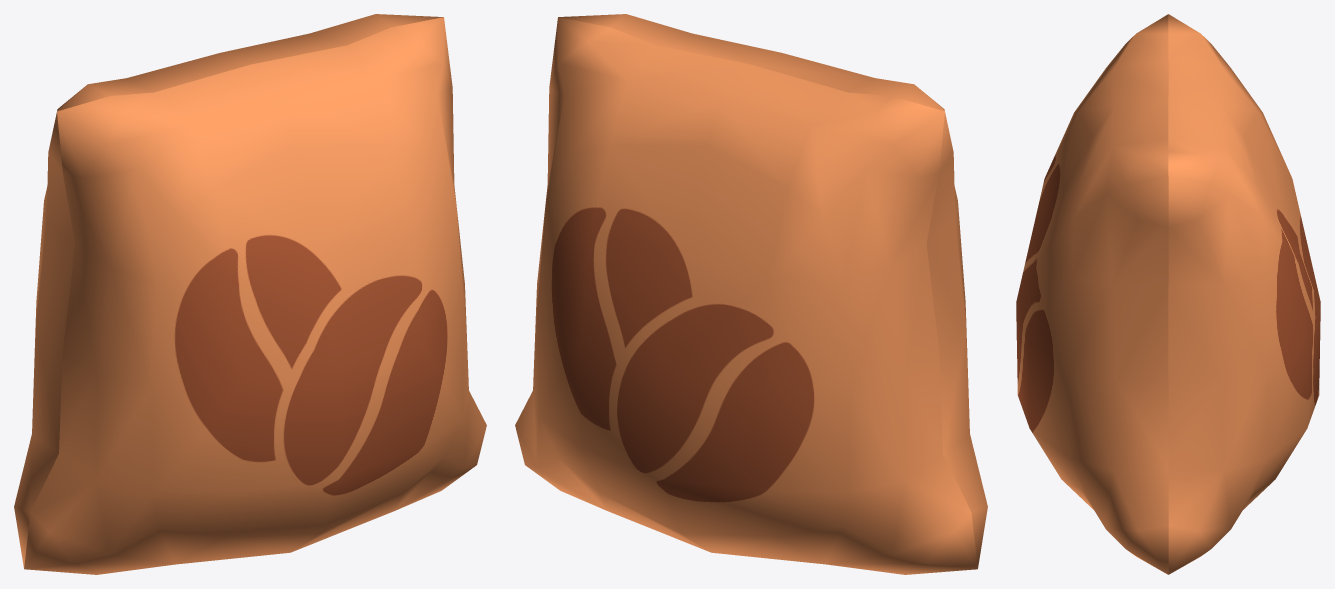
Rendered from Stock_CoffeeBean_geo.fbx.
The picture shows the model from 3 angles, left to right: view 1: azimuth 30°, elevation 25°; view 2: azimuth 150°, elevation 25°; view 3: azimuth 270°, elevation 25°; orthographic projection. The views are drawn at different scales.
Visible parts, largest first — view 1: Stock_Coffee_geo; view 2: Stock_Coffee_geo; view 3: Stock_Coffee_geo.
Boxes of the visible parts, <box> form: Stock_Coffee_geo: <box>14,14,486,574</box>; Stock_Coffee_geo: <box>515,14,987,574</box>; Stock_Coffee_geo: <box>1016,14,1320,574</box>.
Size of the model in its own units: 0.5732 by 0.3898 by 0.561.
